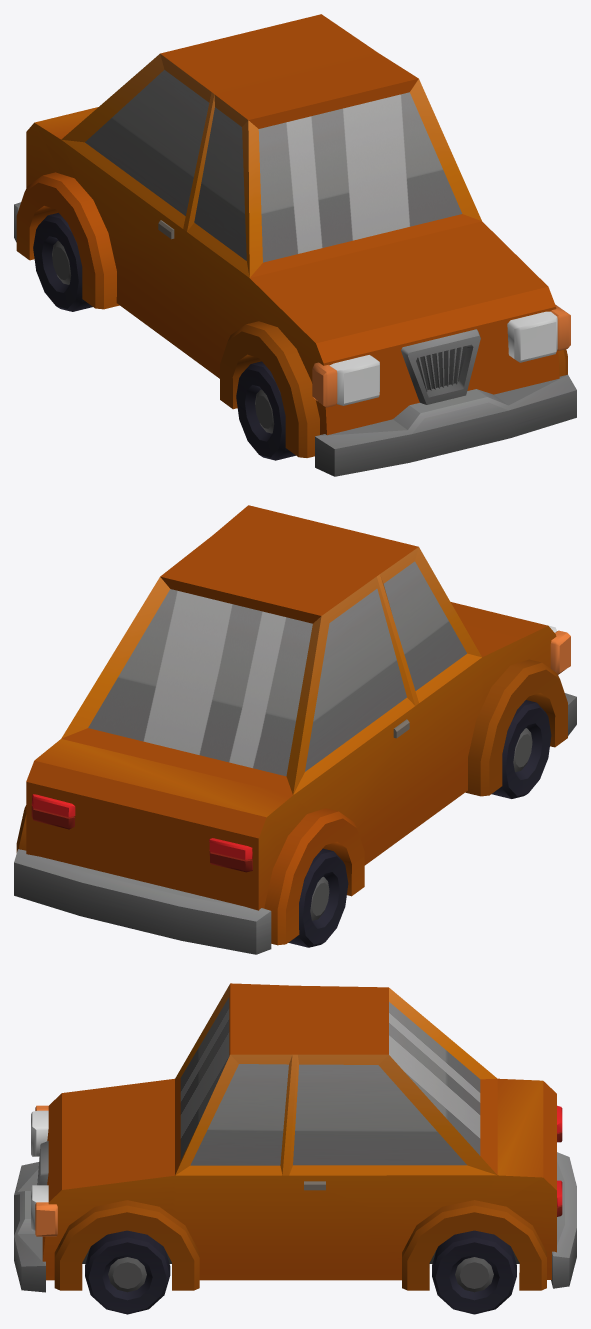
The model's file is Car_4_3.glb.
The picture shows the model from 3 angles, top to bottom: view 1: azimuth 30°, elevation 25°; view 2: azimuth 150°, elevation 25°; view 3: azimuth 270°, elevation 25°; orthographic projection. The views are drawn at different scales.
Visible parts, largest first — view 1: Car_4_3, BWhel_FR, BWhel_BR; view 2: Car_4_3, BWhel_BR, BWhel_FR; view 3: Car_4_3, BWhel_FL, BWhel_BL.
Part boxes in pixels (left/top/right/bottom): Car_4_3: left=14, top=14, right=576, bottom=476; BWhel_FR: left=236, top=361, right=295, bottom=460; BWhel_BR: left=33, top=212, right=92, bottom=311; Car_4_3: left=14, top=505, right=576, bottom=954; BWhel_BR: left=288, top=848, right=348, bottom=947; BWhel_FR: left=491, top=700, right=551, bottom=798; Car_4_3: left=14, top=983, right=576, bottom=1292; BWhel_FL: left=85, top=1230, right=170, bottom=1314; BWhel_BL: left=432, top=1230, right=516, bottom=1314.
Bounding box in the file's own units: 1.09 × 1.09 × 2.3.
6 materials, 6 textured.
